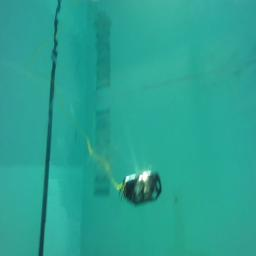Side: (120, 171, 162, 207)
